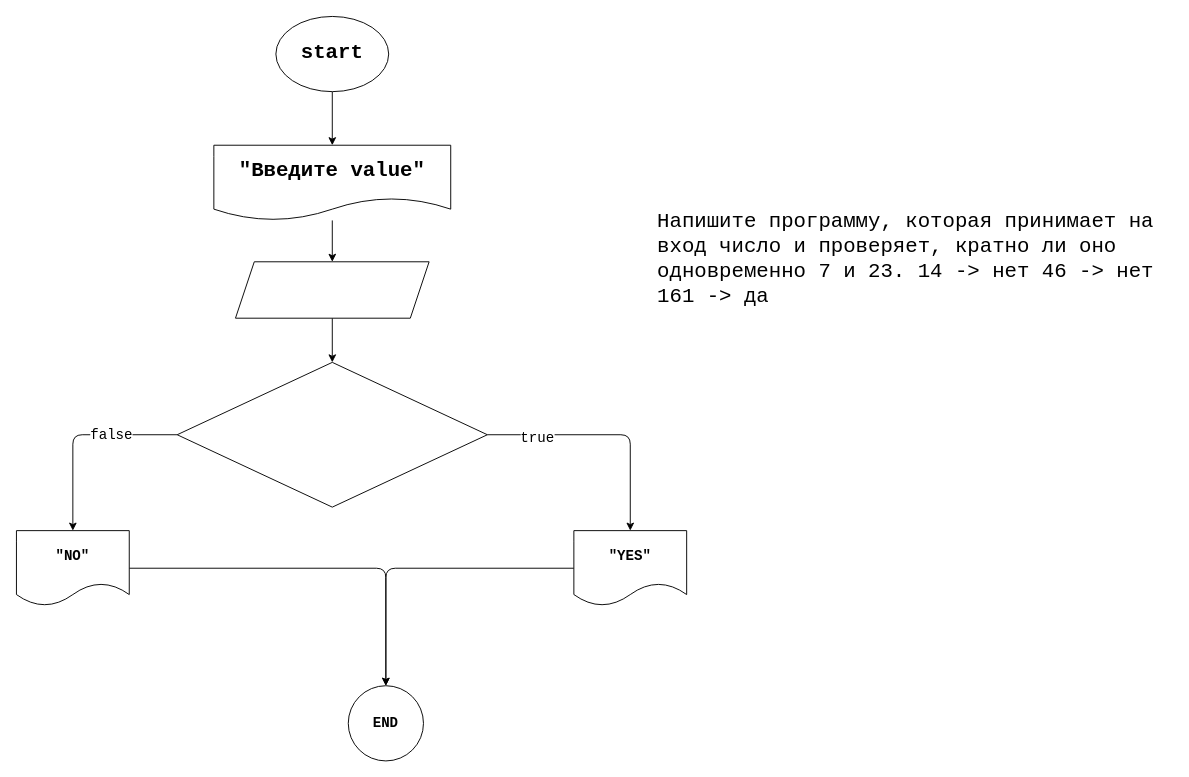
Image size: 1189x777. Some labels were removed from this diagram. The shapes that lost their labels are listed below. From the top down, each one's centre as x and y in pixels, then its label:
At (332,289): "value".
At (331,434): "value mod 7 == 0 and value mod 23 == 0".
